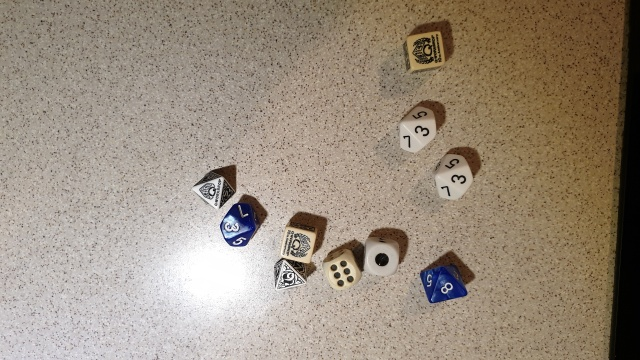d10-3: (391, 97, 437, 155), (428, 150, 475, 204), (214, 202, 262, 250)
d10-8: (417, 257, 469, 309)
d6-1: (361, 234, 401, 279)
d6-6: (317, 244, 362, 293)
d6p-6: (399, 28, 450, 75), (275, 218, 316, 263)
d8p-6: (268, 256, 307, 292)
d8p-8: (190, 168, 230, 210)
